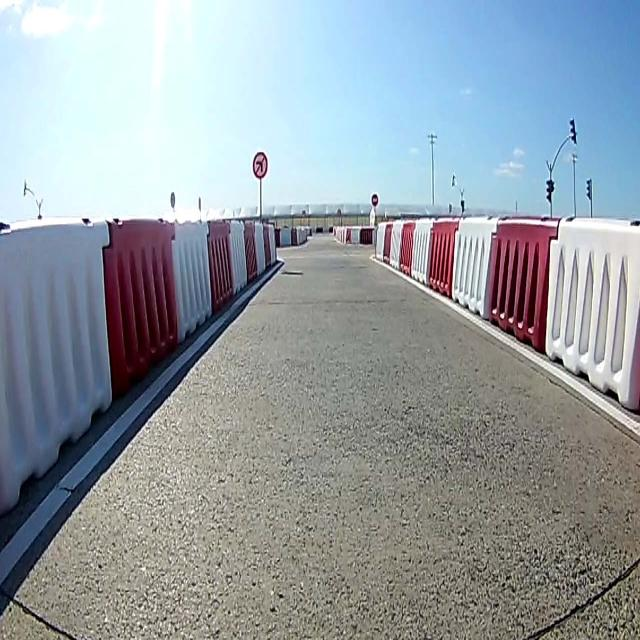girisyok: (371, 192, 379, 207)
soladonulmez: (252, 150, 269, 179)
